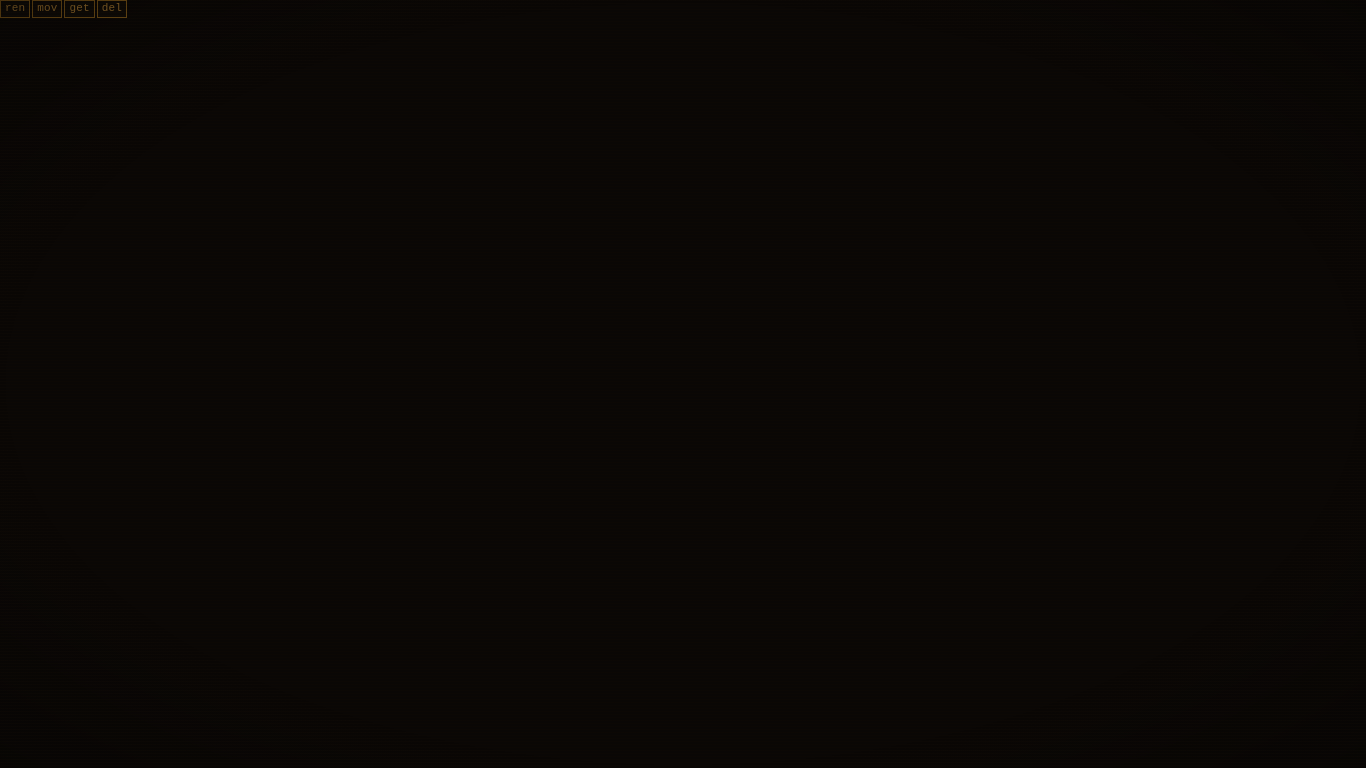
FileActions › closes a dialog on Escape
Click the button with aria-label "renomear topologia.png".
click(15, 9)  # box top-left (0, 0), bottom-right (30, 18)
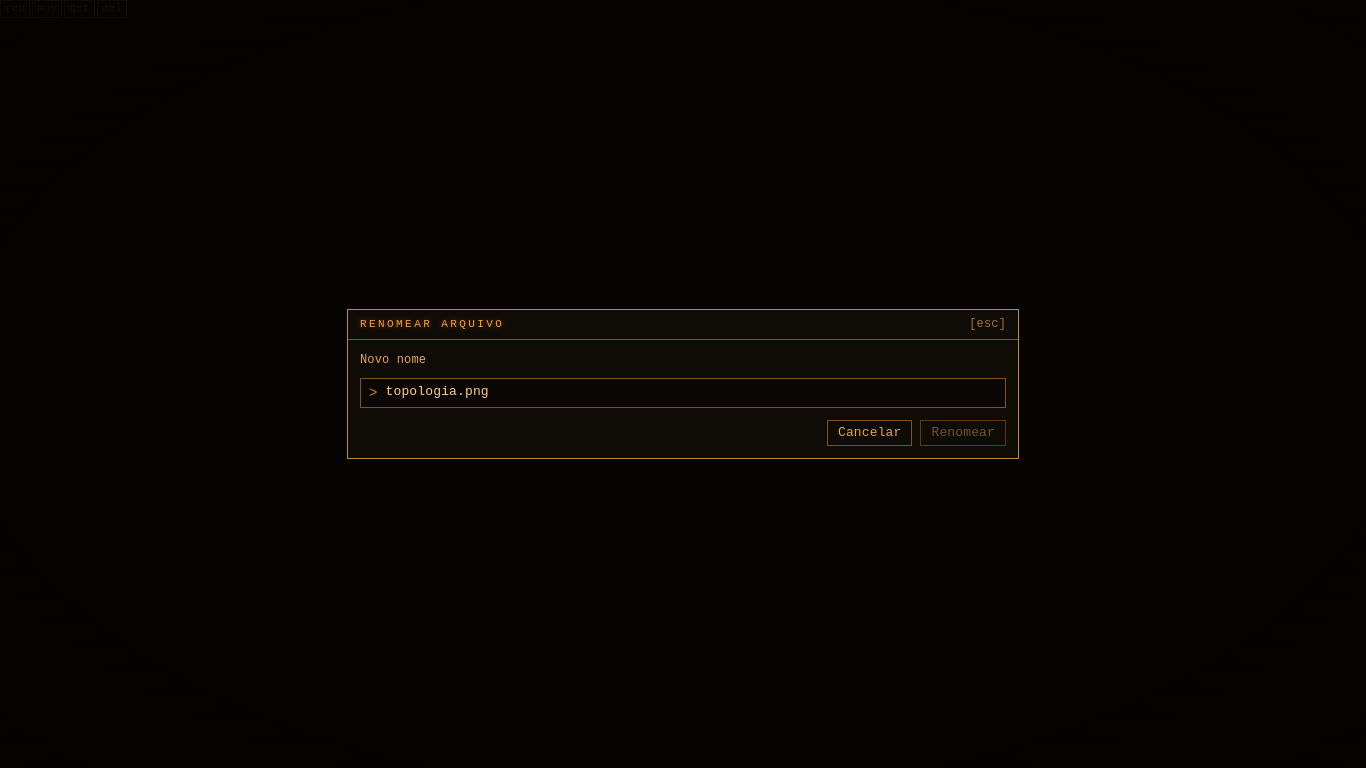
Check: the dialog is shown, box top-left (347, 309), bottom-right (1019, 459)
Press Escape
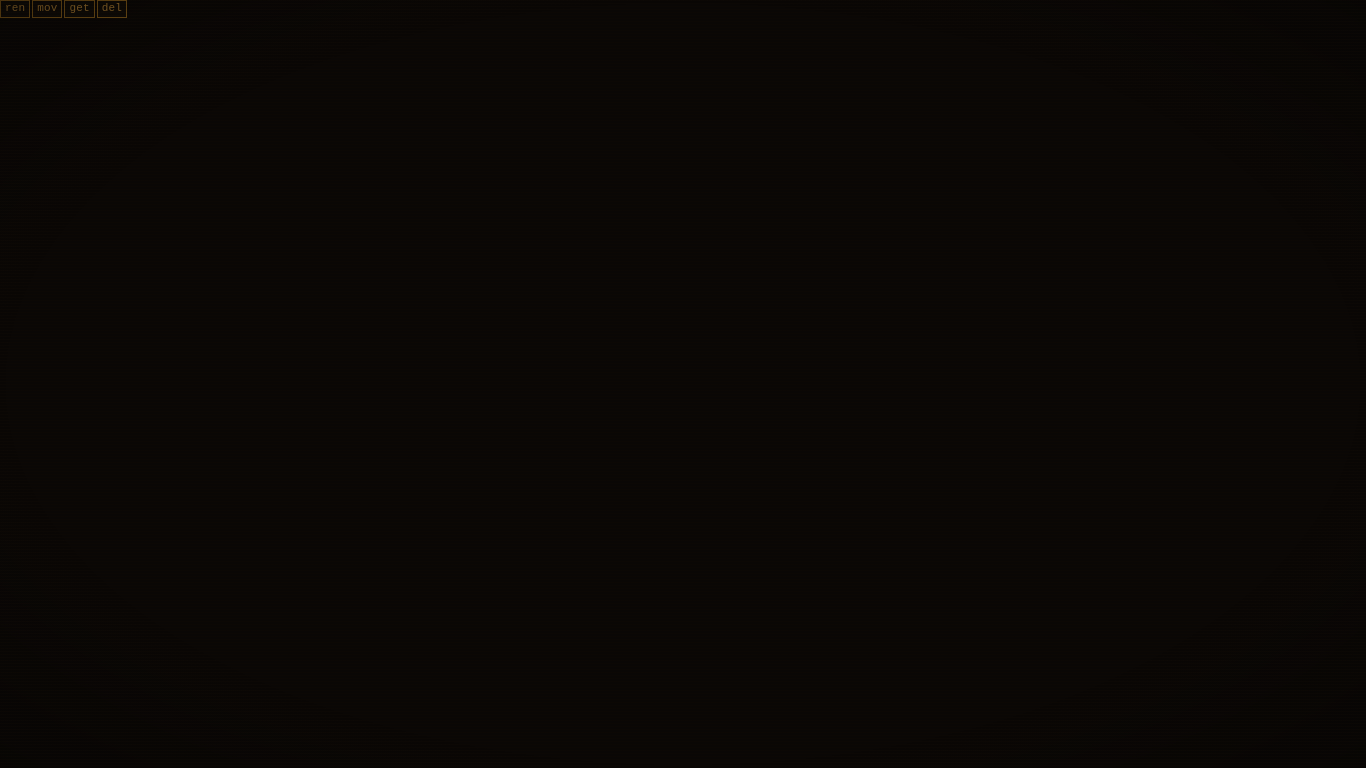
Check: the dialog is gone
